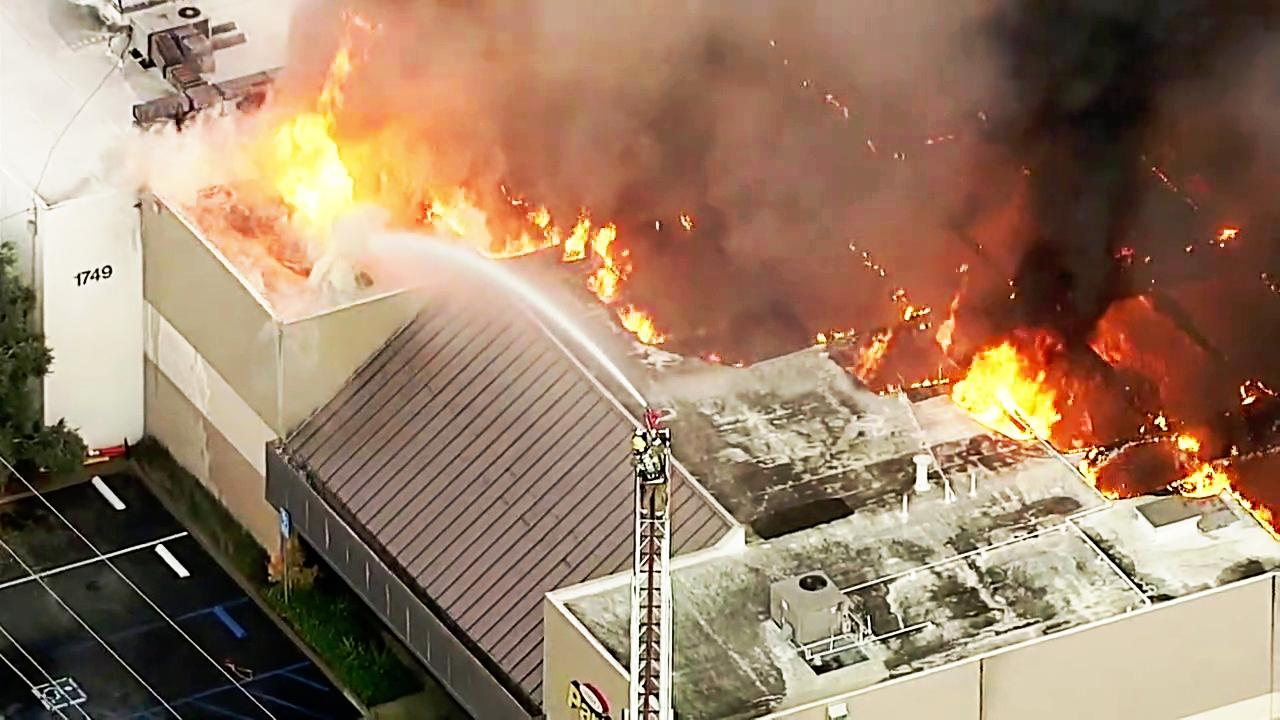fire: (950, 337, 1065, 430), (280, 115, 359, 215)
smoke: (1003, 0, 1222, 338)
